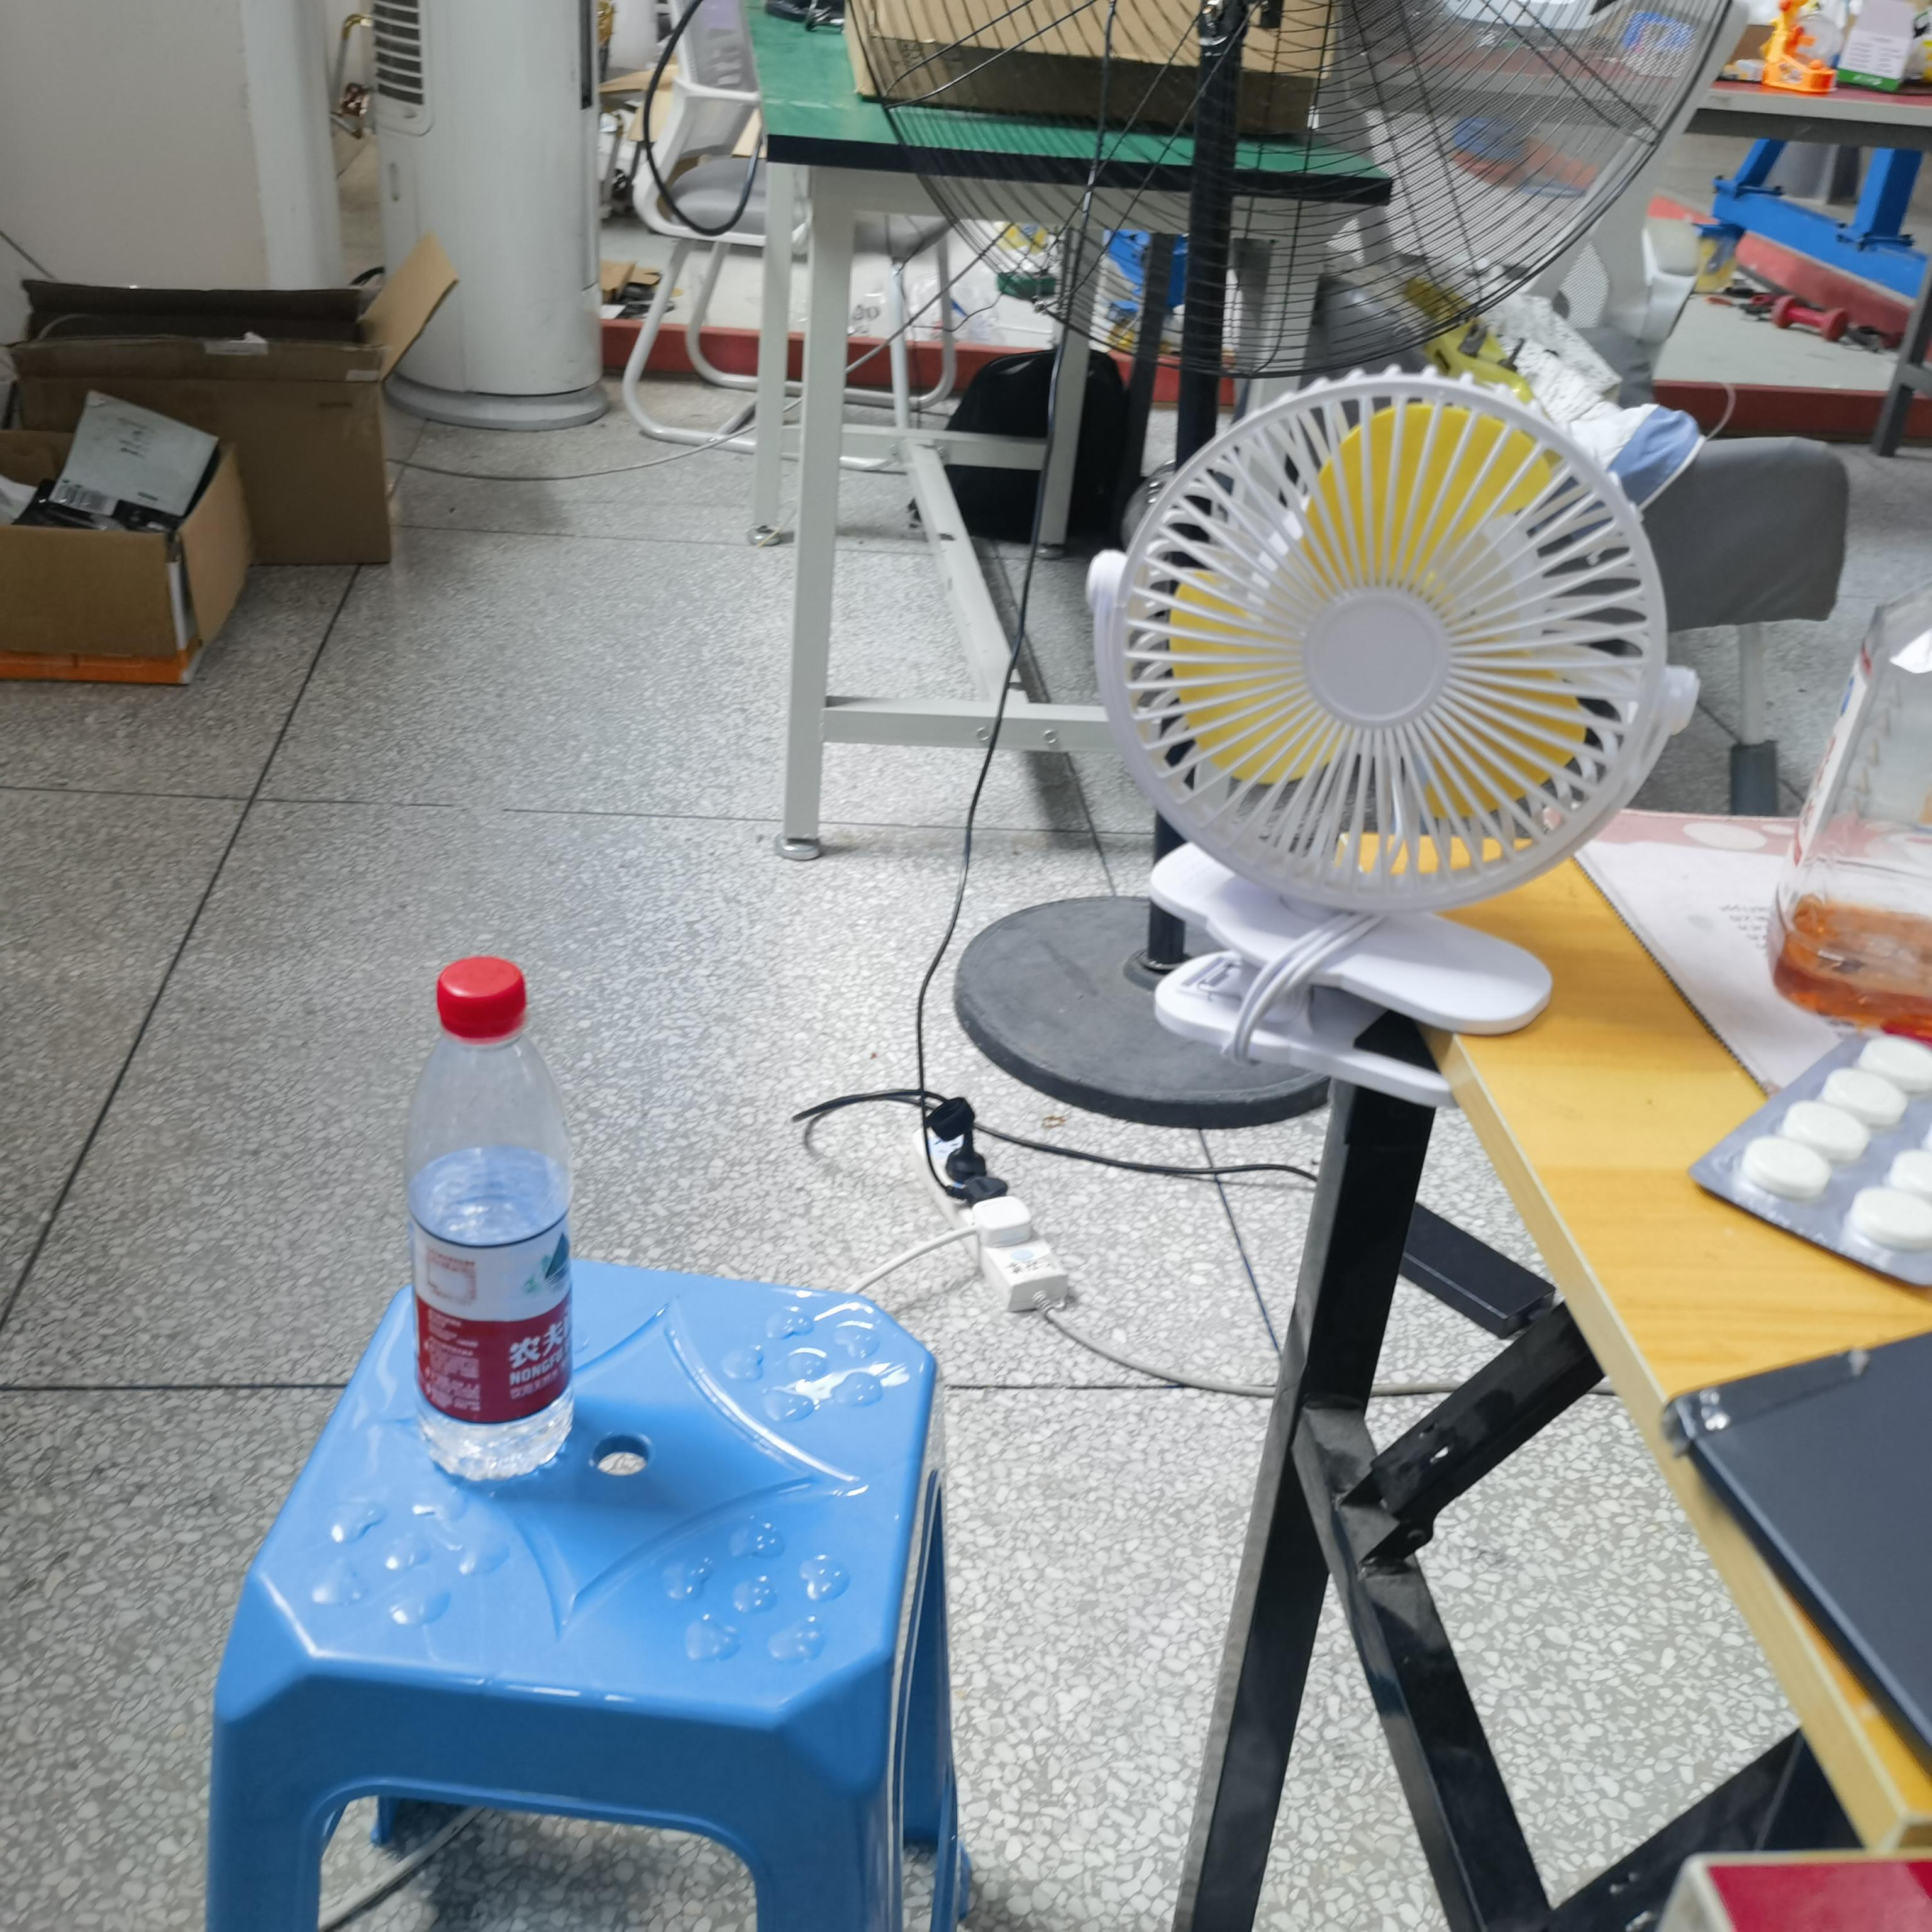bottle: (407, 957, 575, 1481)
fan: (1090, 366, 1674, 1106), (490, 1458, 513, 1477)
